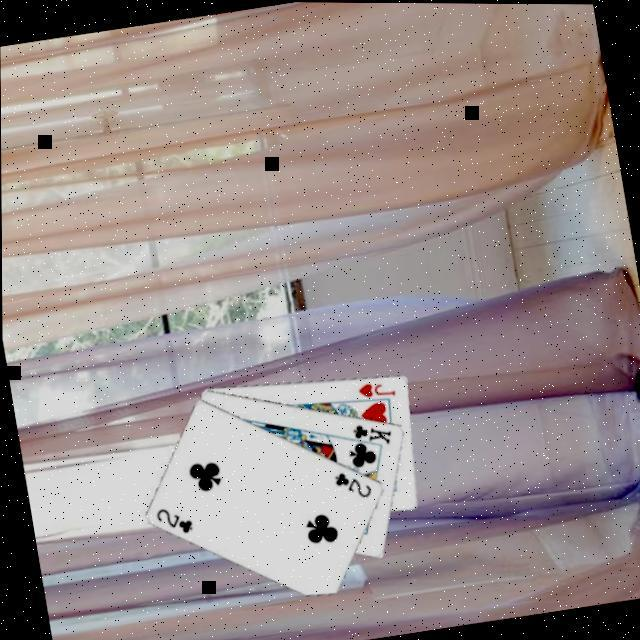2C: (149, 502, 195, 542), (328, 466, 373, 506)
JH: (352, 377, 397, 404)
KC: (340, 418, 394, 456)
